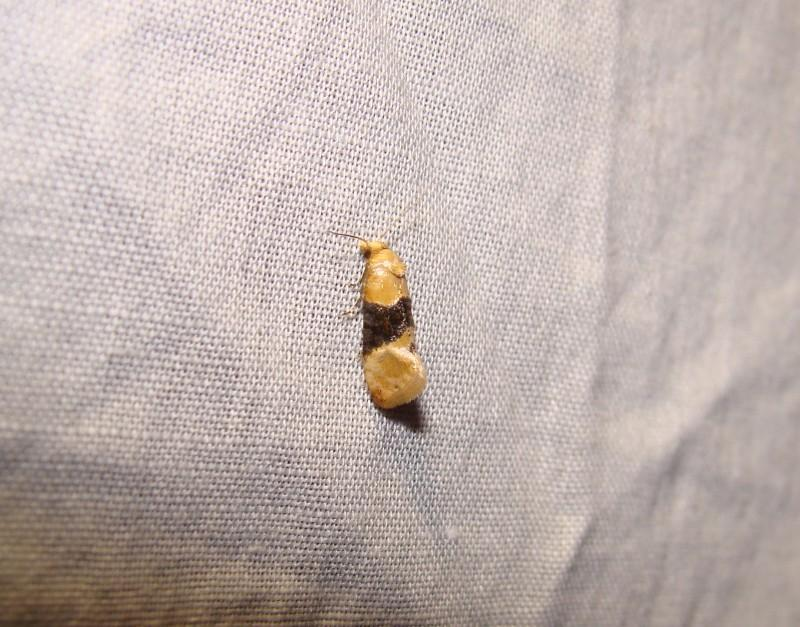Eupoecilia Ambiguella: (326, 226, 430, 413)
